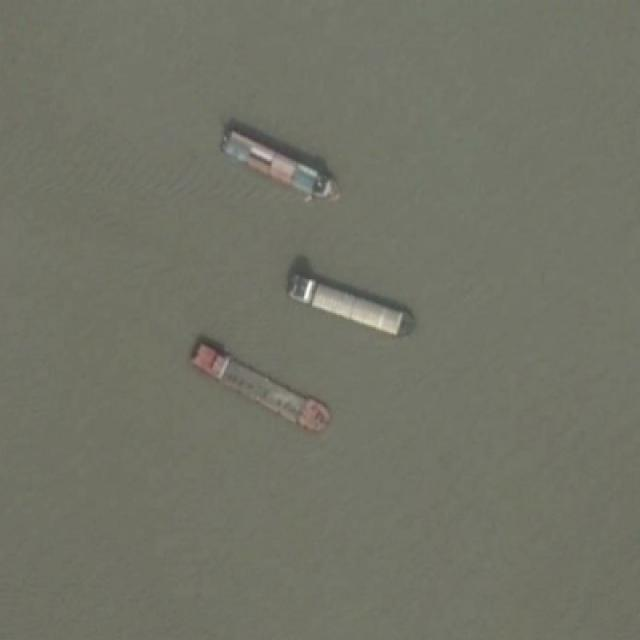boat: (187, 339, 333, 433), (283, 265, 418, 339), (216, 125, 339, 204)
